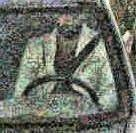seatbelt: (61, 29, 104, 80)
